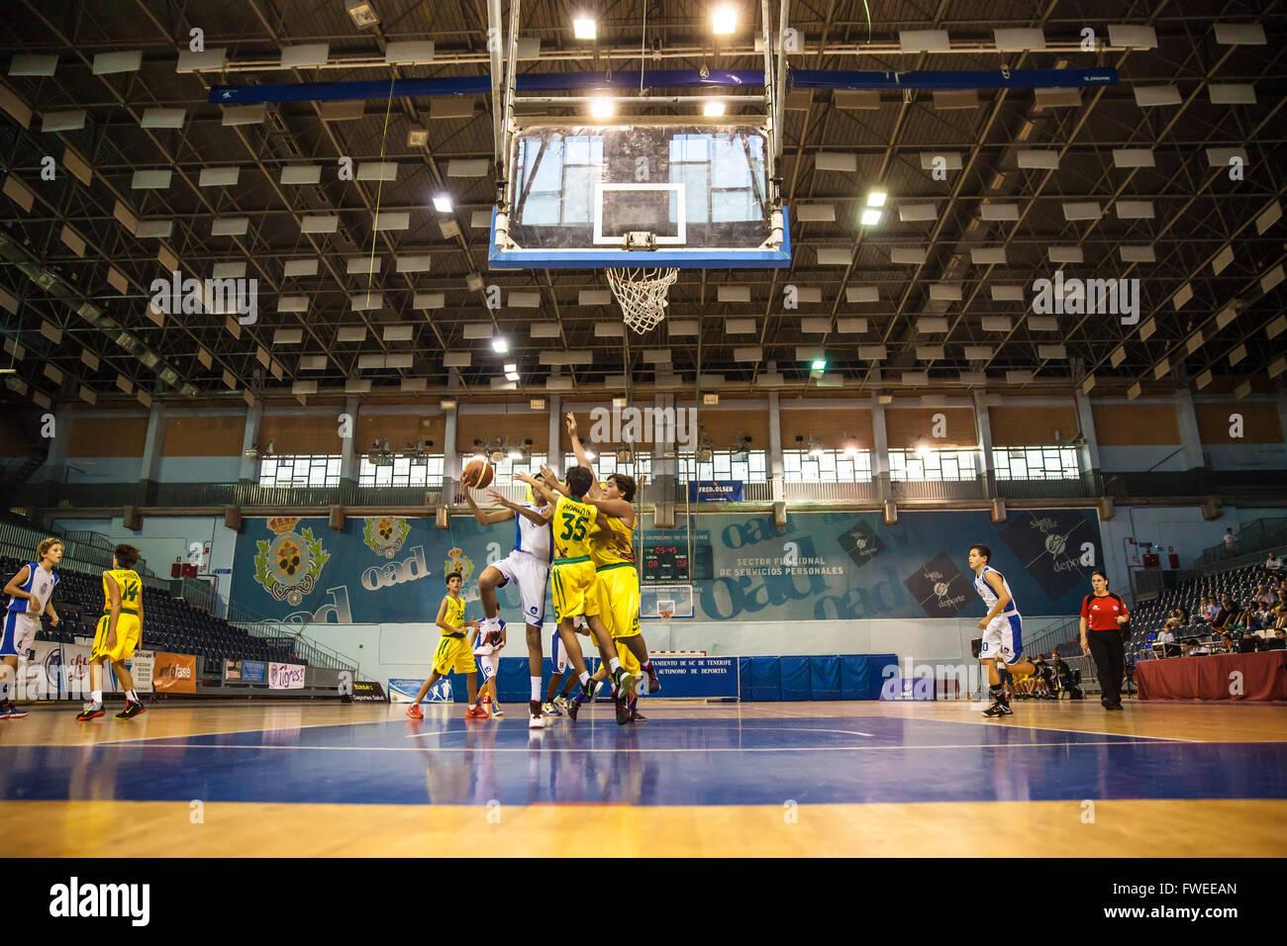basketball: (457, 457, 498, 491)
